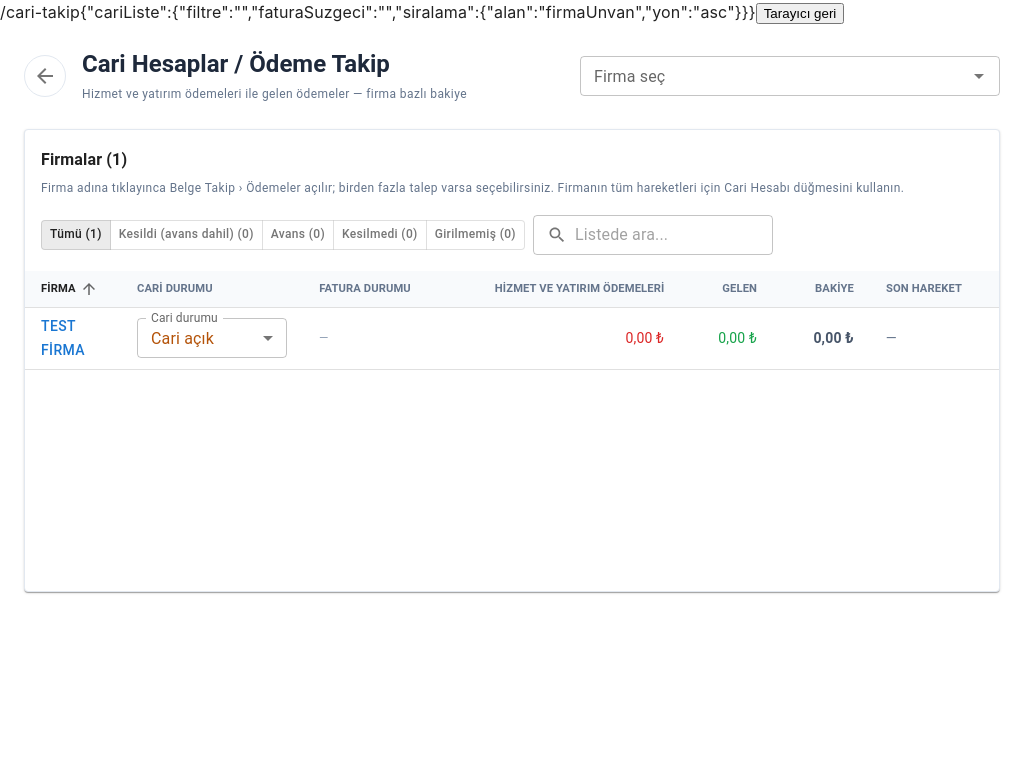
çoklu taleplerde aktif ve arşiv seçenekleri belge numarasıyla görünür ve seçilenin Ödemeler sekmesi açılır
The image size is (1024, 768).
Click the button "TEST FİRMA": x=73, y=338 [41,314,105,363]
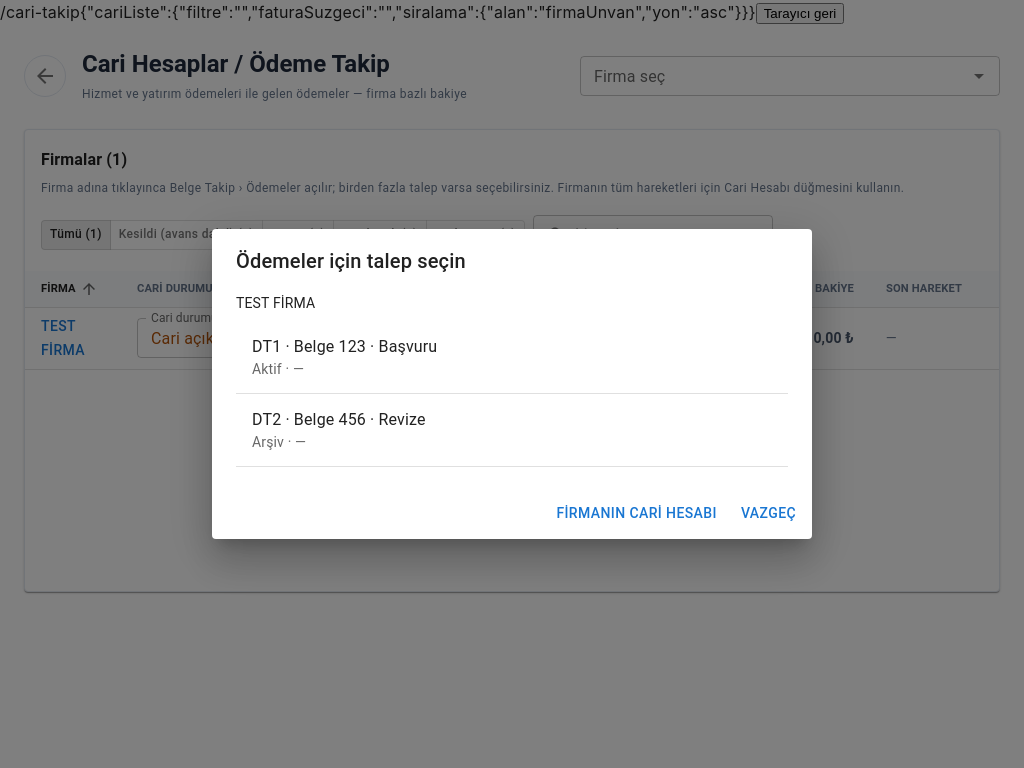
Check: the text "Aktif · —" is shown, box [252,361,304,377]
Check: the text "Arşiv · —" is shown, box [252,434,306,450]
Click the button "DT2 · Belge 456 · Revize Arşiv · —": x=339, y=419 [236,394,788,467]
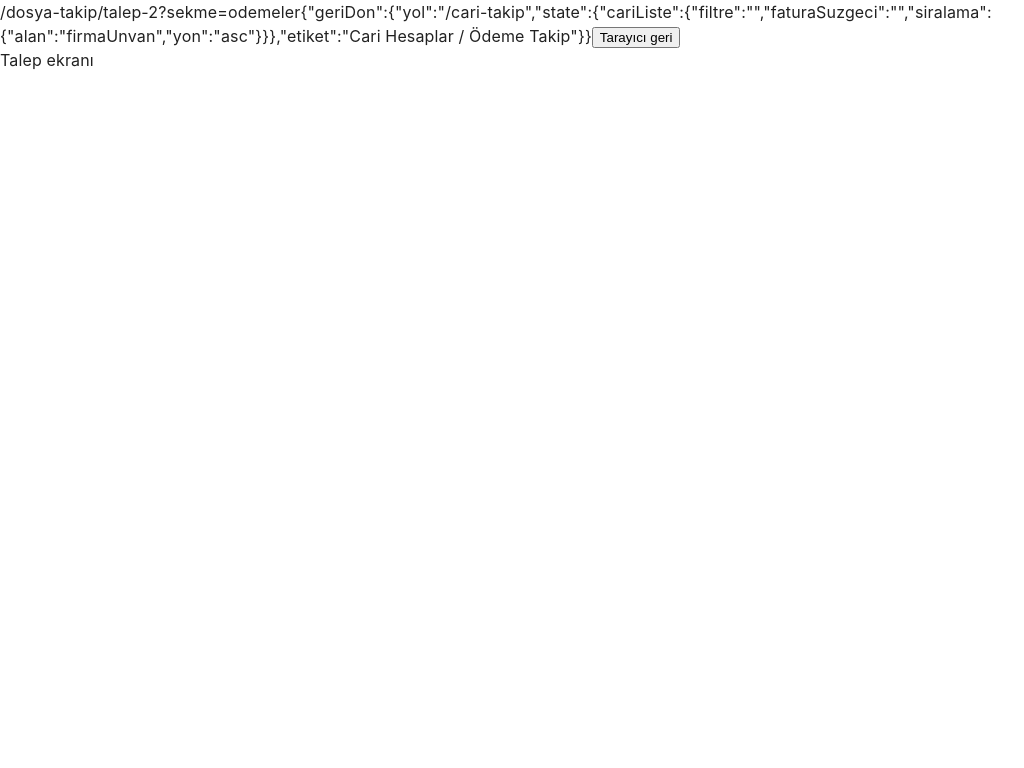
Check: the text "Talep ekranı" is shown, box [0,50,94,70]
Check: the text with test id "konum" reads "/dosya-takip/talep-2?sekme=odemeler", box [0,2,300,22]
